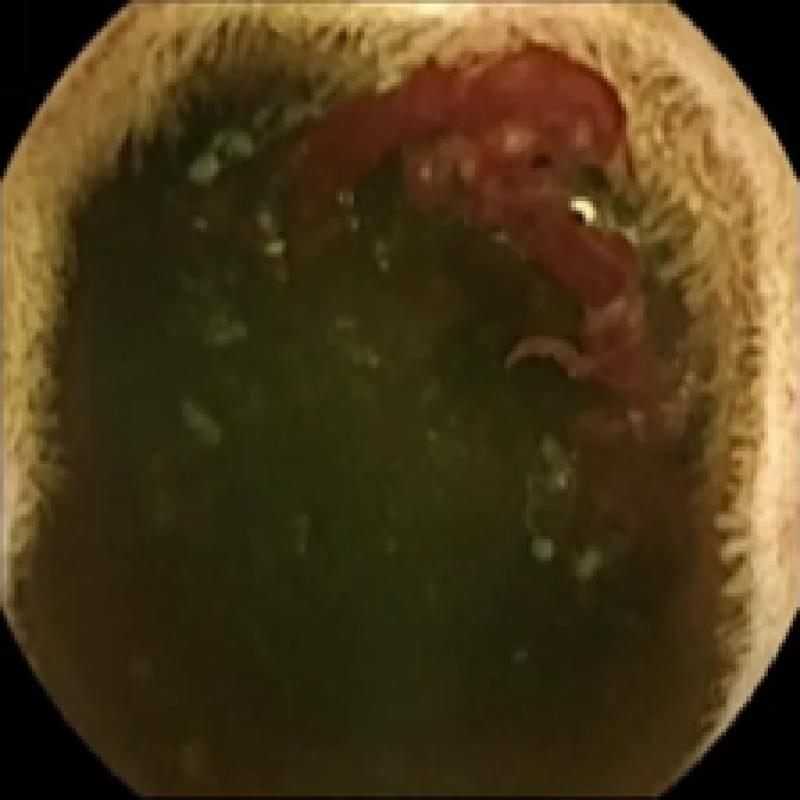bleeding: (275, 32, 700, 543)
